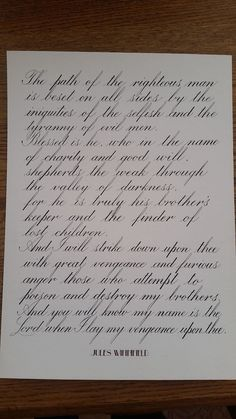page: (8, 52, 230, 380)
